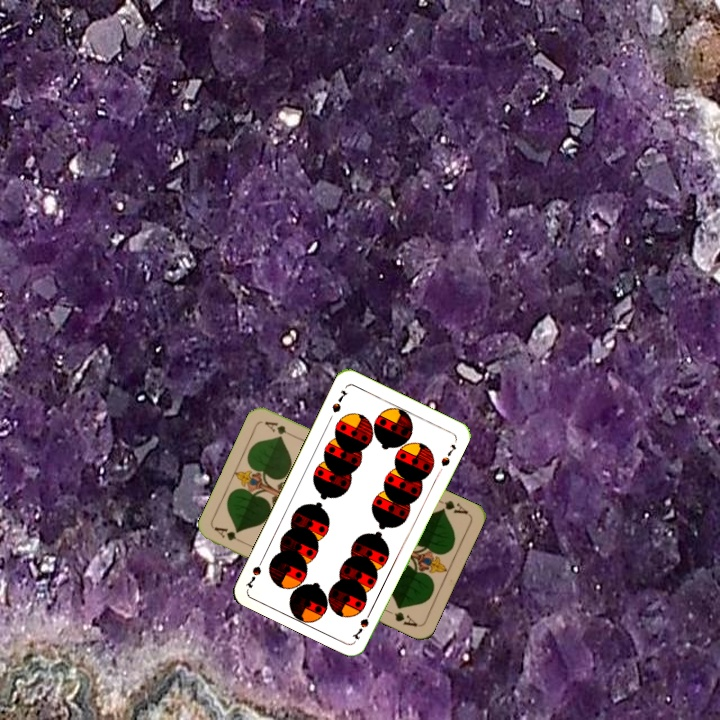GA: (211, 523, 249, 547), (432, 495, 470, 517)
S7: (348, 605, 375, 642), (328, 386, 351, 415)
